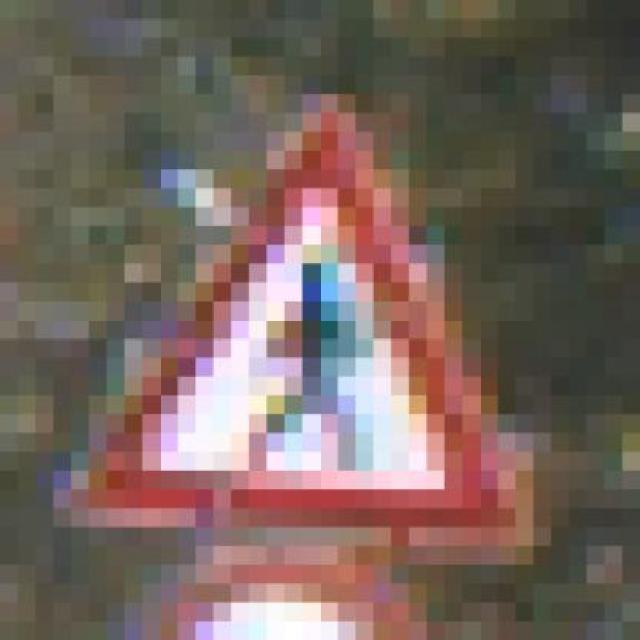Pedestrian Crossing: (53, 57, 533, 546)
